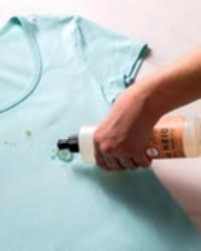oil: (50, 150, 72, 163), (3, 141, 16, 151), (24, 126, 36, 136)
